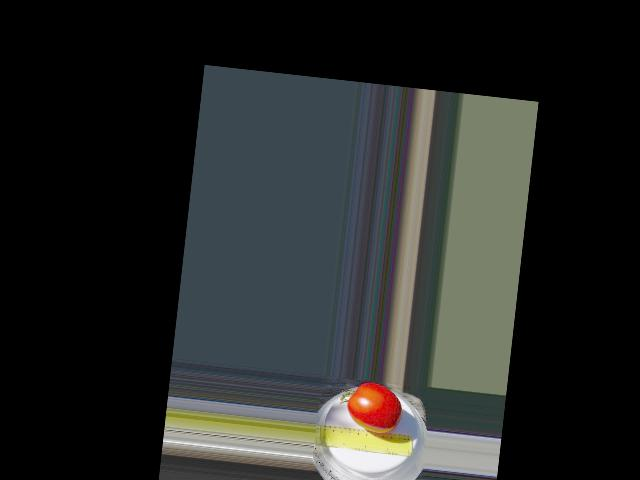tomato: (343, 380, 404, 436)
